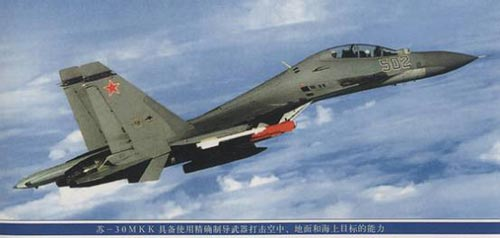airplane: (11, 39, 485, 198)
